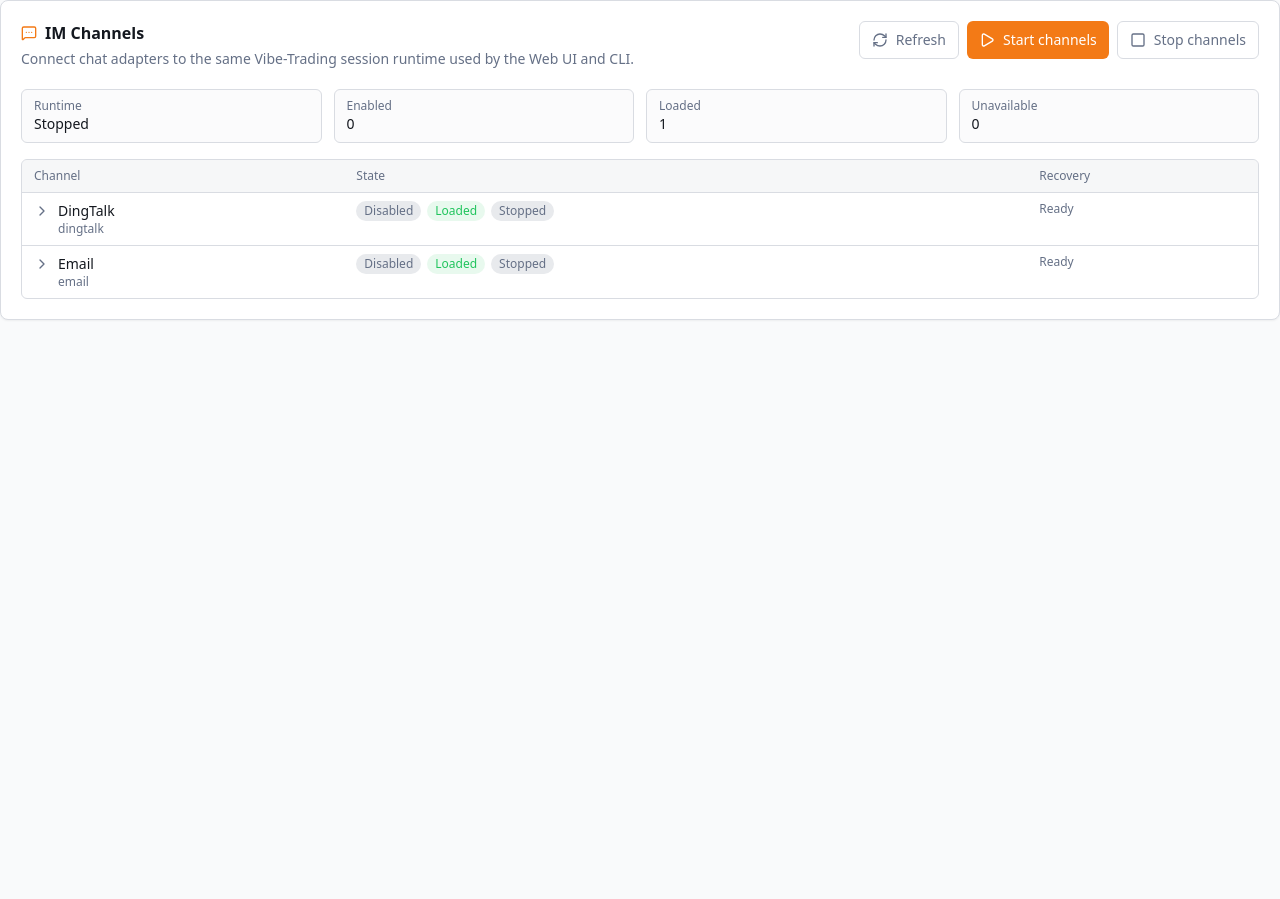
Test case: ChannelSettings config panel › toggles the Email setup guide with its steps and external link
Check: the heading "IM Channels" is shown, box x1=45 y1=21 x2=144 y2=45
Click the button "Email email": (64, 272) x1=34 y1=254 x2=94 y2=290
(page scrolled)
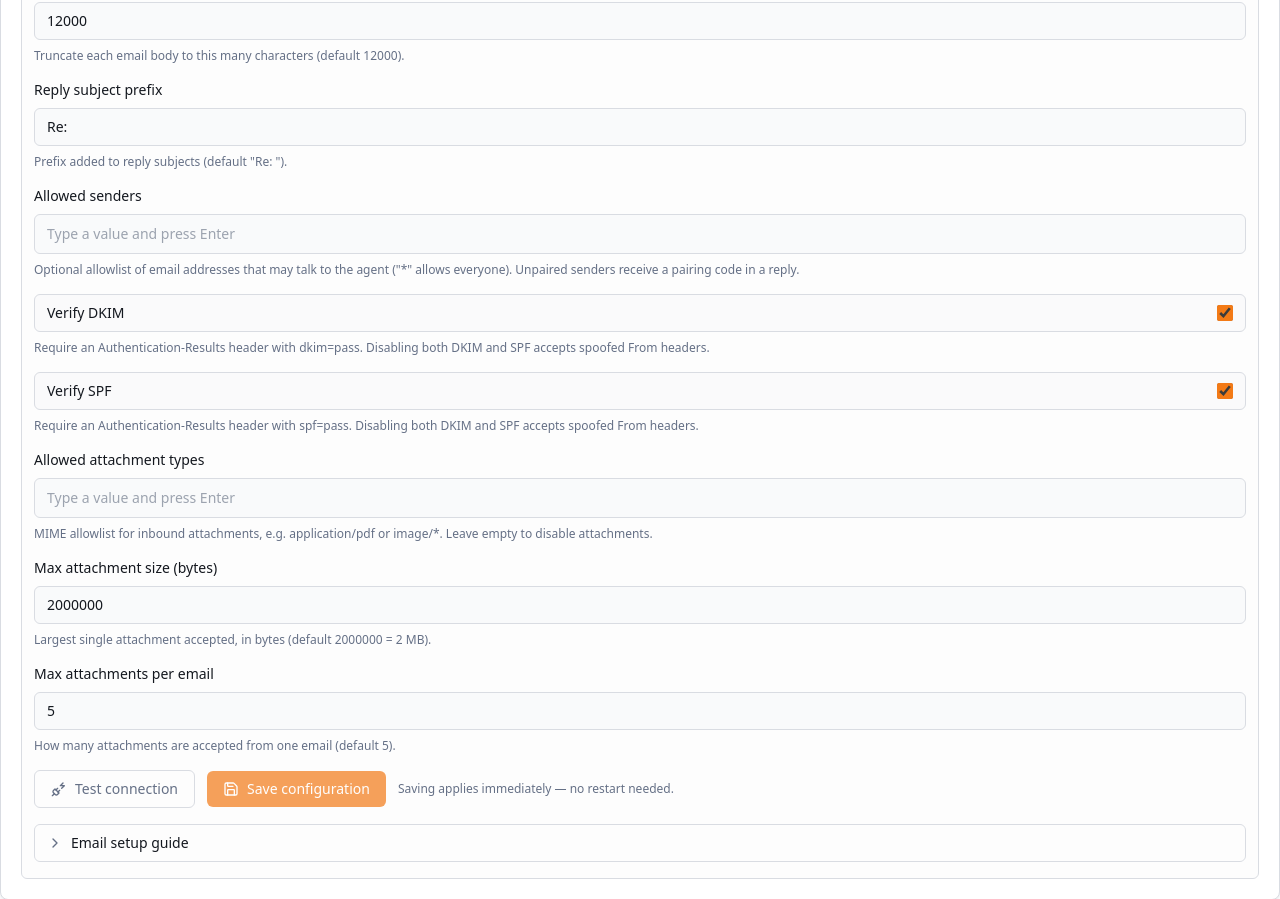
Check: the text "IMAP and SMTP host names and ports" is not shown
Click the button "Email setup guide": (130, 842) x1=35 y1=825 x2=1245 y2=861
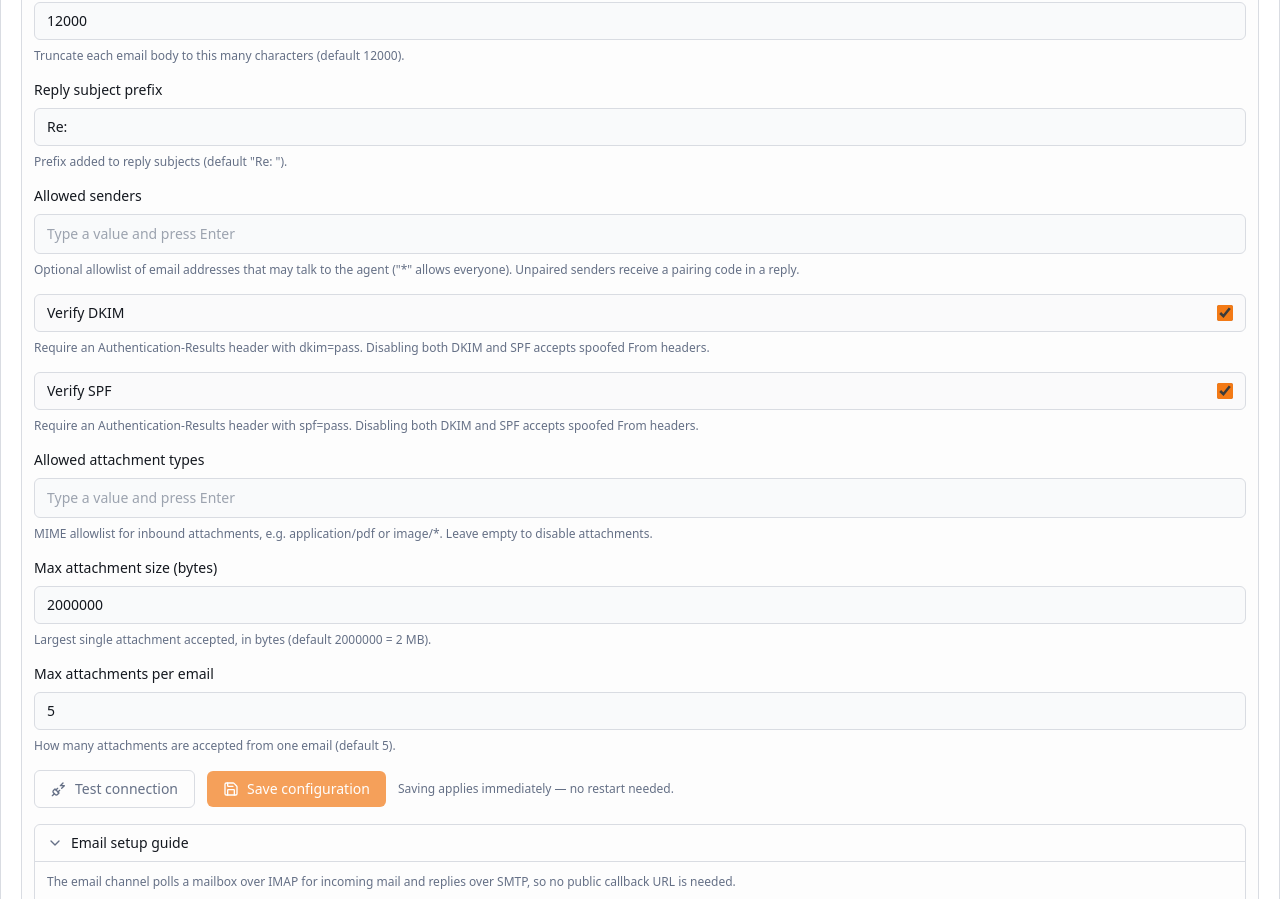
Check: the button "Email setup guide" is expanded
Check: the text "no public callback URL is needed" is shown, box x1=47 y1=873 x2=736 y2=890
Click the button "Email setup guide": (130, 842) x1=35 y1=825 x2=1245 y2=861
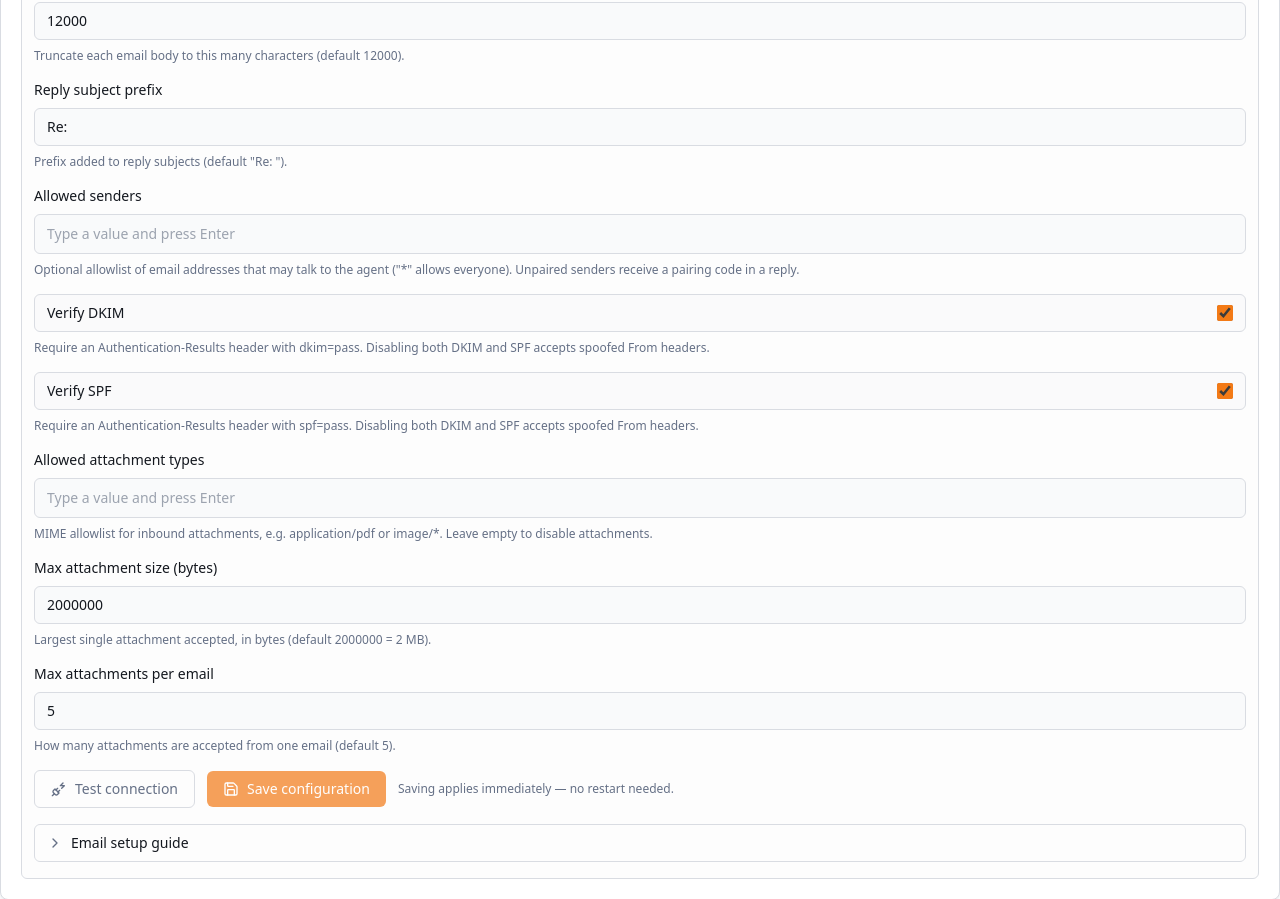
Check: the button "Email setup guide" is collapsed, box x1=35 y1=825 x2=1245 y2=861
